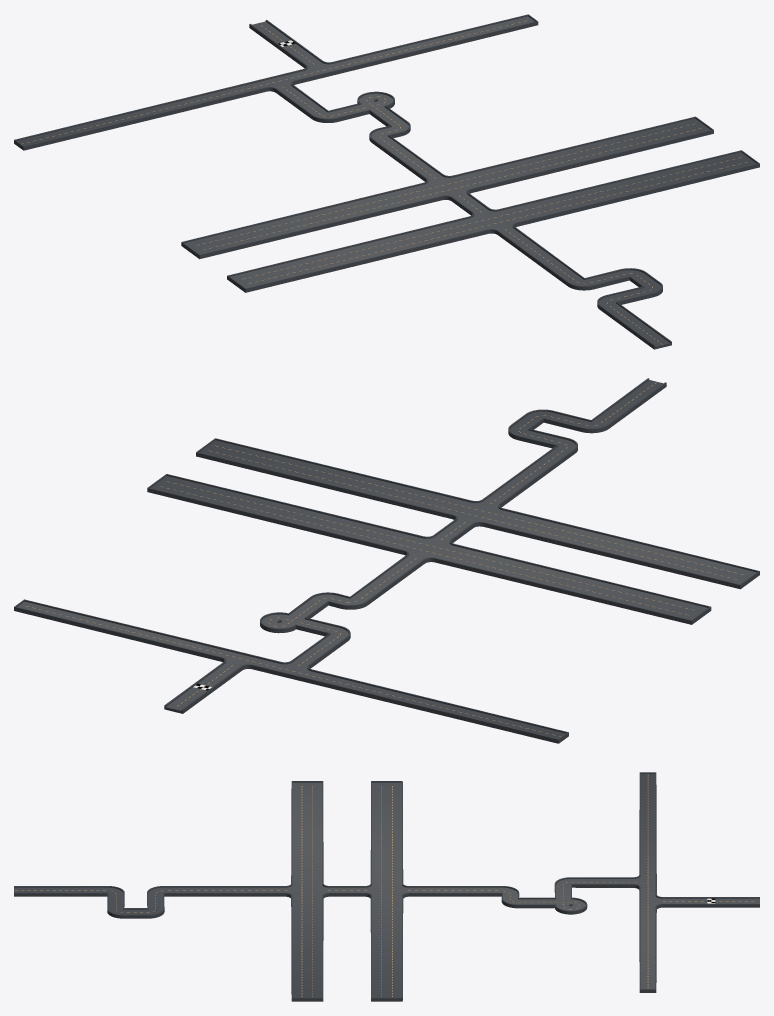
File: Path8.fbx
The picture shows the model from 3 angles, top to bottom: view 1: azimuth 30°, elevation 25°; view 2: azimuth 150°, elevation 25°; view 3: azimuth 270°, elevation 25°; orthographic projection. The views are drawn at different scales.
Visible parts, largest first — view 1: Plane; view 2: Plane; view 3: Plane.
Boxes of the visible parts, bbox=[...] form: Plane: bbox=[14, 14, 759, 349]; Plane: bbox=[14, 378, 759, 743]; Plane: bbox=[14, 772, 759, 1001].
Size of the model in its own units: 10754 by 72.87 by 14999.
